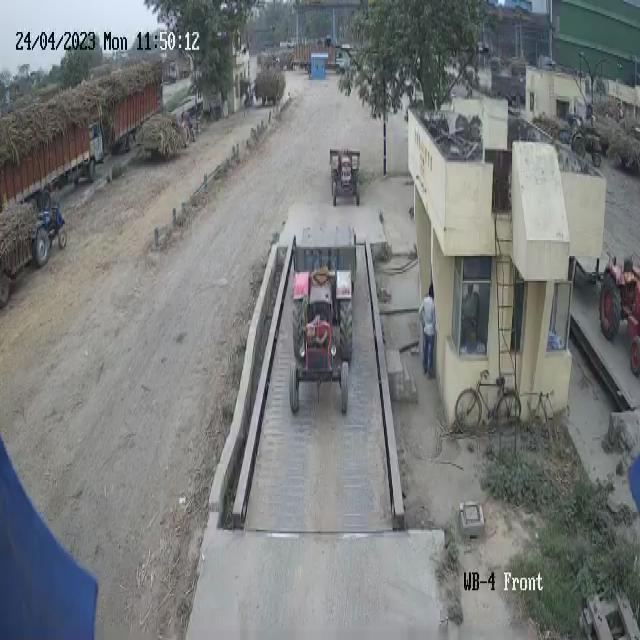Tratores - v5 YOLO V8L 2024-11-13: (286, 260, 350, 423), (30, 193, 70, 268), (328, 142, 361, 206)
